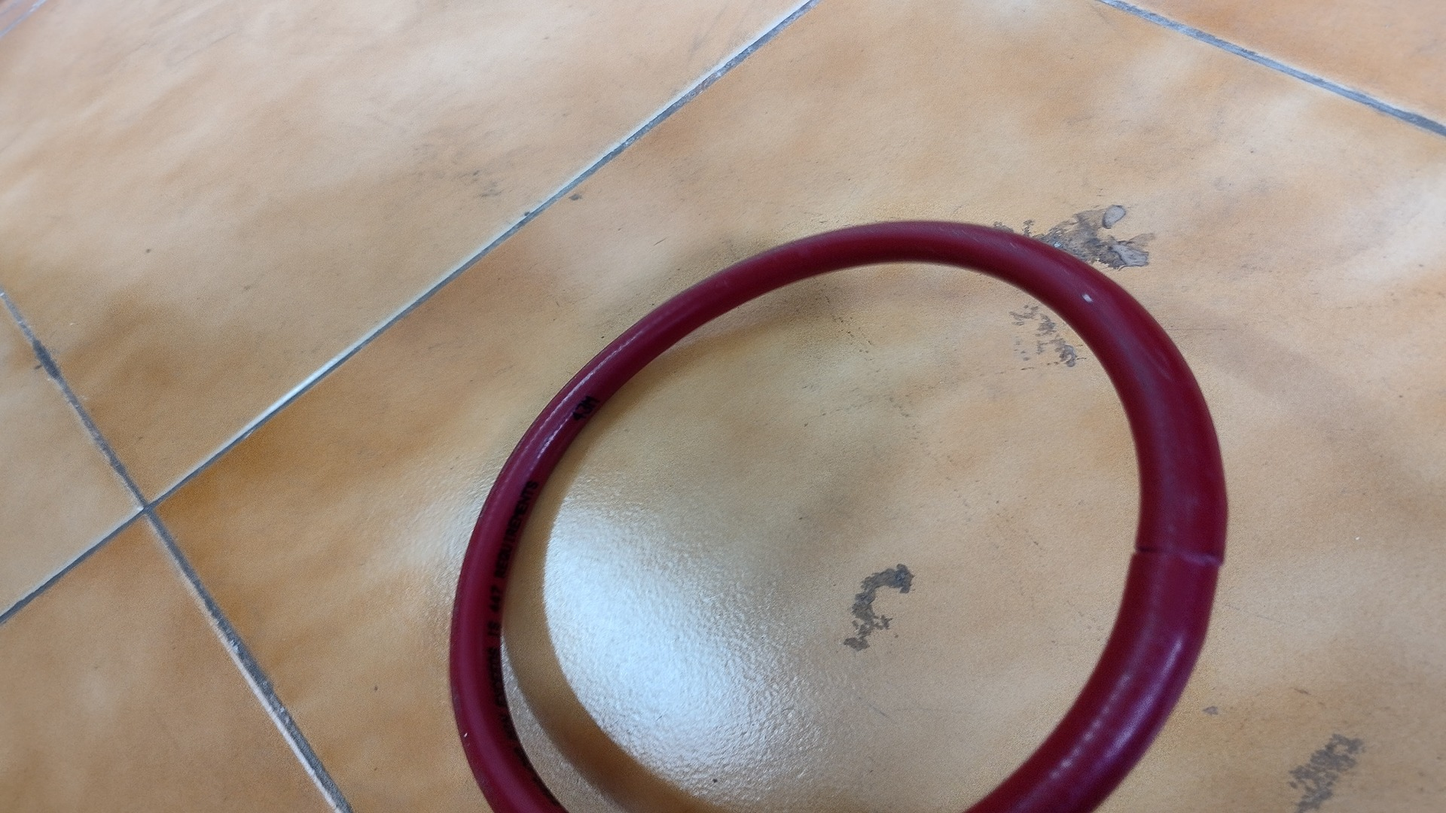Red ring: (447, 223, 1235, 813)
